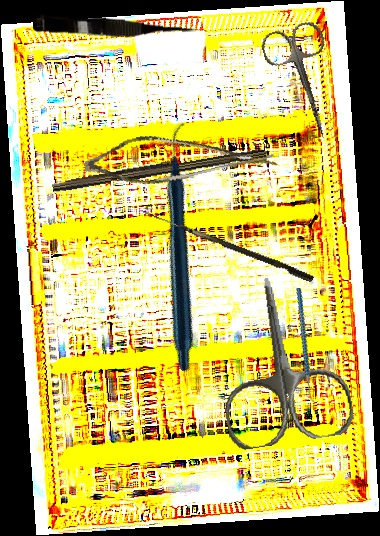Chopper: (271, 287, 344, 407)
Handpiece: (64, 119, 303, 375)
Hook Surgical: (136, 209, 316, 283)
Iris Scissors: (205, 268, 357, 452), (258, 18, 352, 148)
Micro Scissor: (80, 107, 281, 208), (32, 13, 199, 44)
Scalpel Handle: (51, 142, 267, 196)
